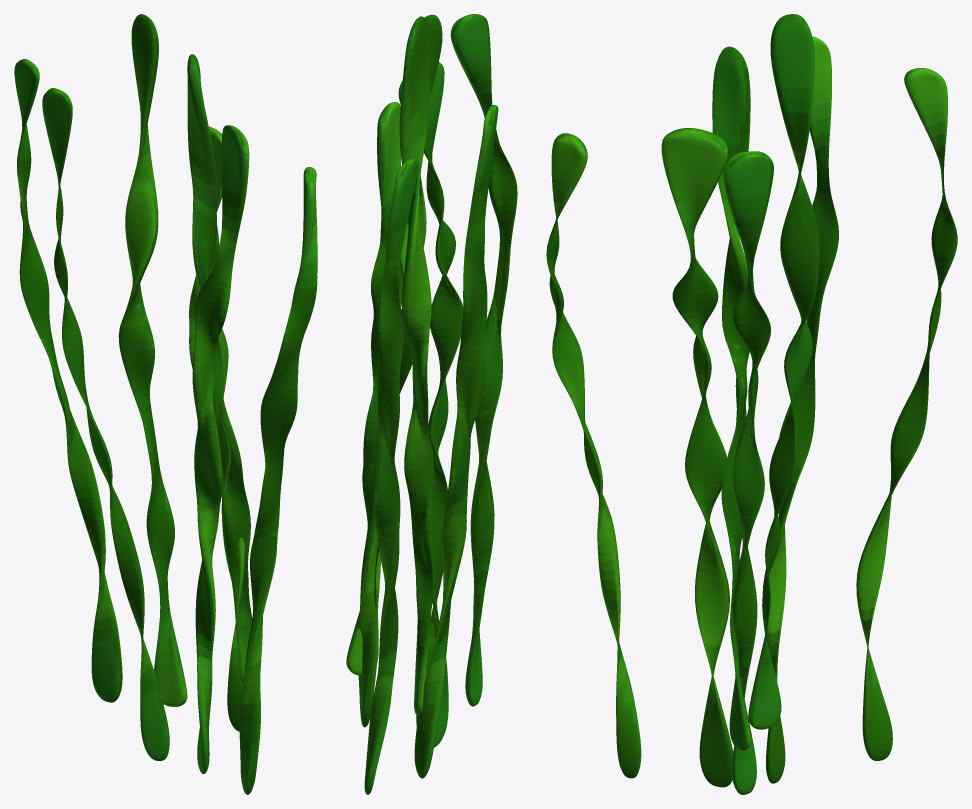
The model's file is seaweed2.glb.
3 renders of one model, left to right at view 1: azimuth 30°, elevation 25°; view 2: azimuth 150°, elevation 25°; view 3: azimuth 270°, elevation 25°, orthographic. The views are drawn at different scales.
Visible parts, largest first — view 1: Plane.014; view 2: Plane.014; view 3: Plane.014.
Part boxes in pixels (x1=…): Plane.014: x1=14, y1=14, x2=317, y2=794; Plane.014: x1=346, y1=14, x2=517, y2=794; Plane.014: x1=546, y1=14, x2=957, y2=794.
Bounding box in the file's own units: 4.9 × 19.53 × 9.51.
1 material, 1 textured.
